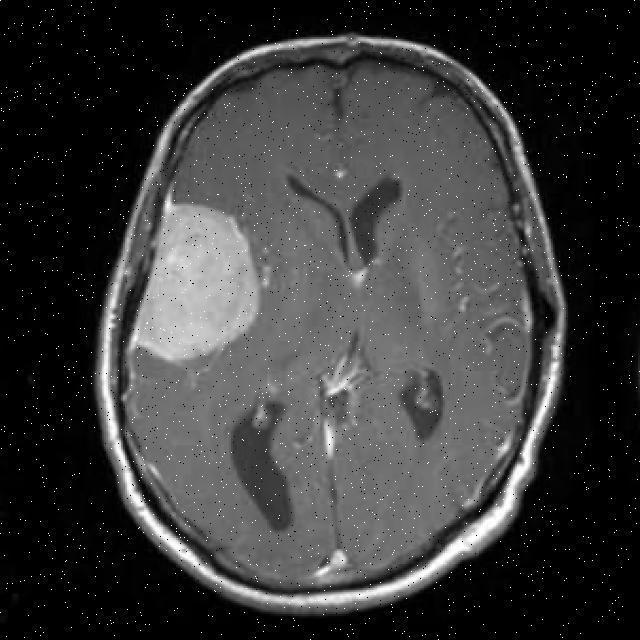Meningioma: (133, 201, 260, 362)
